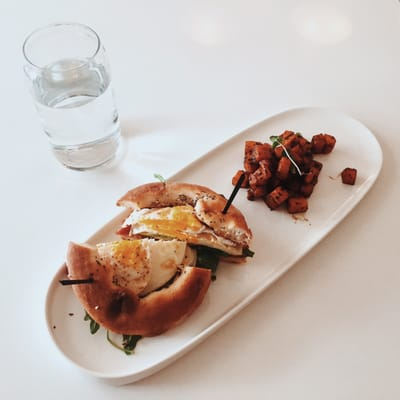pizza: (21, 22, 126, 171)
soup: (114, 180, 254, 256)
